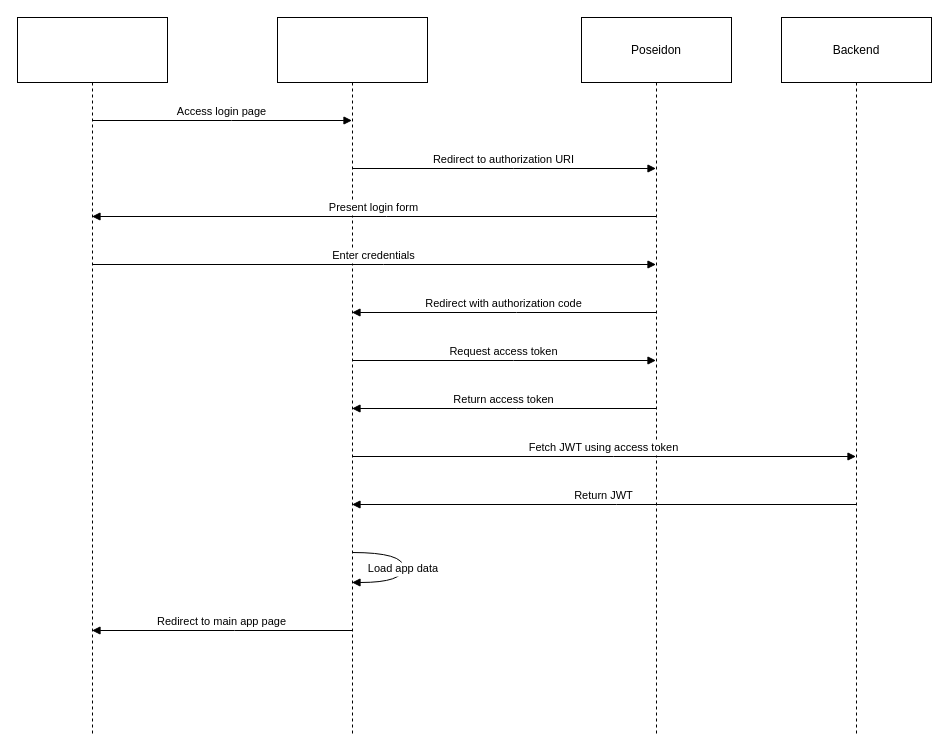
Some shapes in this 949 by 753 pixel diagram are drawn without their labels. The shapes that lost their labels are listed below. From the top down, each one's box as (x1, y1, x2, y2) in pixels, then its label:
(16, 16, 168, 736): User
(276, 16, 428, 736): Frontend
